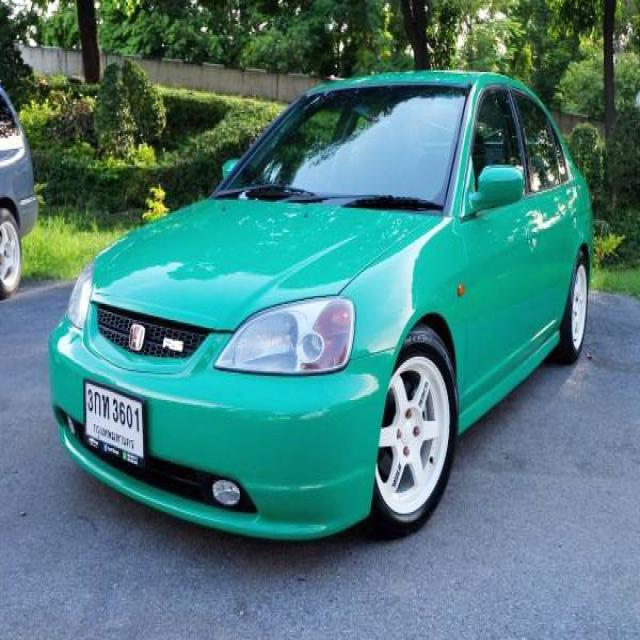license_plate: (79, 374, 150, 476)
